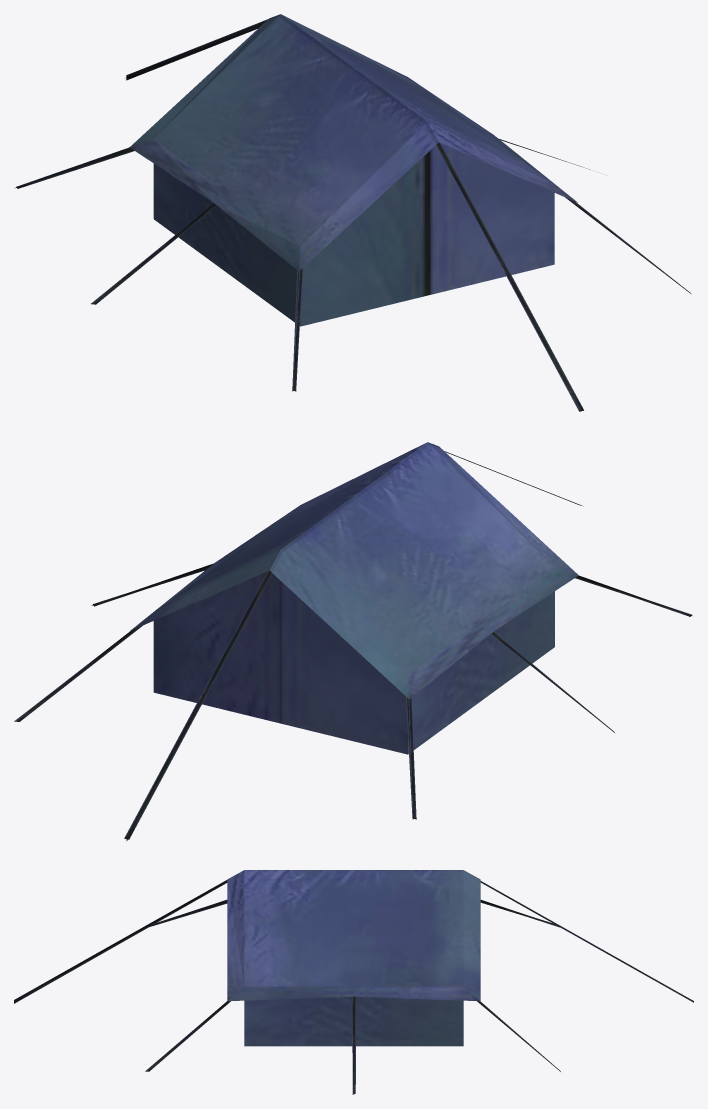
File: Tent02BA.obj
3 views of the same model, one above another, from view 1: azimuth 30°, elevation 25°; view 2: azimuth 150°, elevation 25°; view 3: azimuth 270°, elevation 25° (orthographic). The views are drawn at different scales.
Visible parts, largest first — view 1: Tent02GA; view 2: Tent02GA; view 3: Tent02GA.
Part boxes in pixels (x1,y1,x2,y2): Tent02GA: [14, 14, 691, 411]; Tent02GA: [14, 442, 692, 841]; Tent02GA: [14, 870, 693, 1094].
Bounding box in the file's own units: 9.29 × 3.03 × 13.96.
